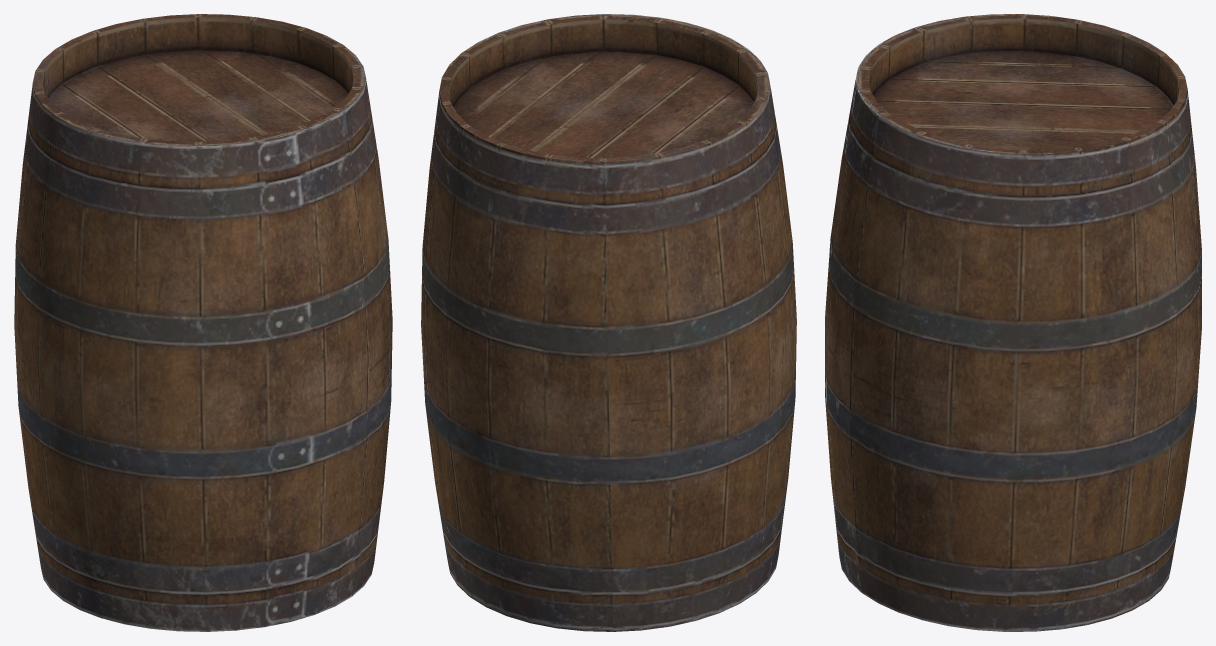
File: barrel2.obj
The picture shows the model from 3 angles, left to right: view 1: azimuth 30°, elevation 25°; view 2: azimuth 150°, elevation 25°; view 3: azimuth 270°, elevation 25°; orthographic projection.
Visible parts, largest first — view 1: barrel_small_open; view 2: barrel_small_open; view 3: barrel_small_open.
Boxes of the visible parts, x1,y1,x2,y2 form: barrel_small_open: (14,14,392,631); barrel_small_open: (421,14,796,631); barrel_small_open: (825,14,1201,631).
Size of the model in its own units: 0.252 by 0.3589 by 0.2518.
